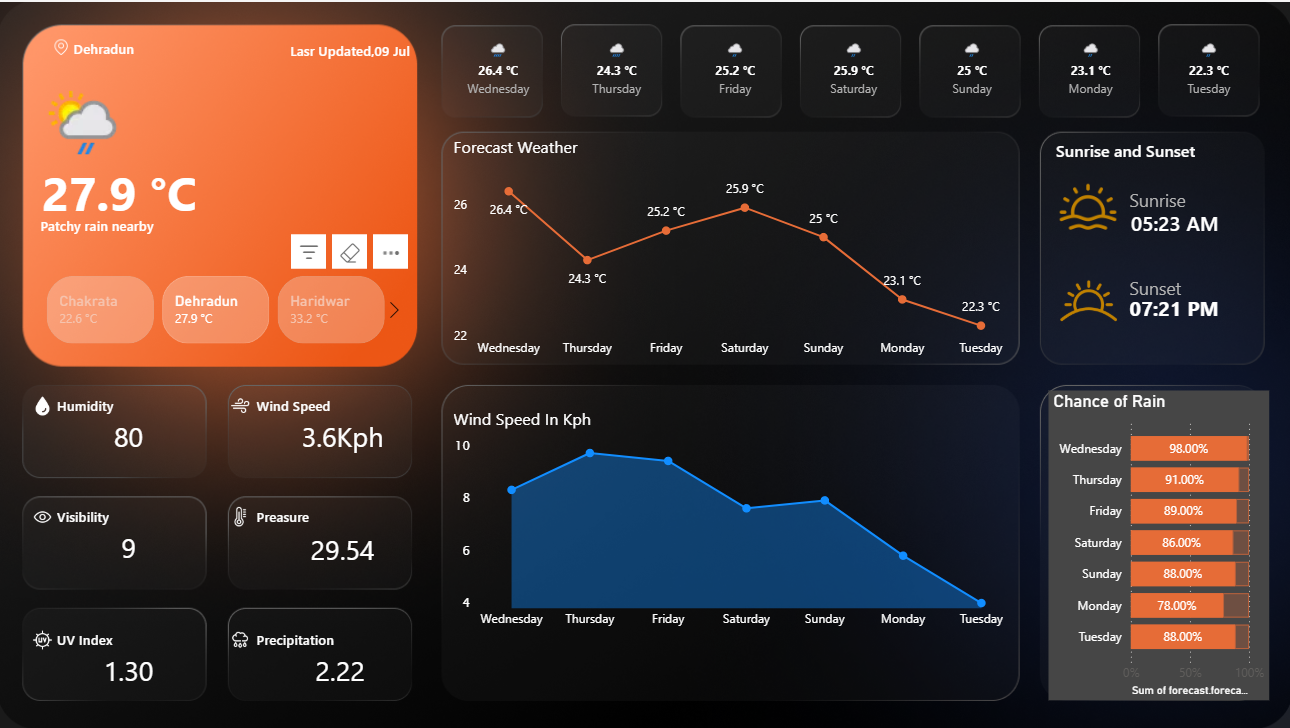

The dashboard page shown, as its layout file describes it:
{"tool":"powerbi","page":{"name":"Page 1","canvas":[1280,720],"ordinal":0},"visuals":[{"type":"advancedSlicerVisual","fields":{"Values":["Locations.location.name"]},"box":[23.9,264.6,384,77.6],"z":0},{"type":"shape","box":[43.8,153.2,210.9,67.6],"z":1000},{"type":"shape","box":[43.5,206,211.7,28.3],"z":2000},{"type":"shape","box":[75.6,31.8,121.4,29.8],"z":3000},{"type":"shape","box":[197,35.8,210.9,23.9],"z":4000},{"type":"image","box":[49.7,29.8,25.9,29.8],"z":5000},{"type":"cardVisual","fields":{"Data":["Min(Current.current.condition.icon)"]},"box":[23.9,59.7,113.4,105.5],"z":6000},{"type":"image","box":[30,384,30,30],"z":7000},{"type":"image","box":[225.6,383.4,30,30],"z":8000},{"type":"image","box":[30,493.4,30,30],"z":9000},{"type":"image","box":[225.6,493.8,30,30],"z":10000},{"type":"image","box":[30,614.8,30,30],"z":11000},{"type":"image","box":[225.6,615.3,30,30],"z":12000},{"type":"shape","box":[60,383.4,137.3,30],"z":13000},{"type":"shape","box":[60,493.8,137.3,30],"z":14000},{"type":"shape","box":[60,615.3,137.3,30],"z":15000},{"type":"shape","box":[255.6,383.4,137.3,30],"z":16000},{"type":"shape","box":[255.6,615.3,137.3,30],"z":17000},{"type":"shape","box":[255.6,493.8,137.3,30],"z":18000},{"type":"card","fields":{"Values":["Sum(Current.current.humidity)"]},"box":[93.1,399.1,72.6,63.1],"z":19000},{"type":"card","fields":{"Values":["MeasureTable.Wind_Speed"]},"box":[288.7,399.1,104.1,63.1],"z":20000},{"type":"card","fields":{"Values":["Sum(Current.current.pressure_in)"]},"box":[288.7,509.6,104.1,63.1],"z":21000},{"type":"card","fields":{"Values":["Sum(Current.current.vis_km)"]},"box":[93.1,508,72.6,63.1],"z":22000},{"type":"card","fields":{"Values":["Sum(Current.current.uv)"]},"box":[93.1,629.5,72.6,63.1],"z":23000},{"type":"card","fields":{"Values":["Sum(Current.current.precip_mm)"]},"box":[302.9,629.5,72.6,63.1],"z":24000},{"type":"advancedSlicerVisual","fields":{"Values":["Forecast_Day.Day_Name"]},"box":[435.4,30,823.5,82],"z":25000},{"type":"lineChart","title":"Forecast Weather","fields":{"Y":["Sum(Forecast_Day.forecast.forecastday.day.avgtemp_c)"],"Category":["Forecast_Day.Day_Name"]},"box":[446.5,132.5,561.6,227.2],"z":26000},{"type":"shape","box":[1046,132.5,200.4,30],"z":27000},{"type":"shape","box":[1119.6,183.5,99.4,67.8],"z":28000},{"type":"shape","box":[1119.1,268.7,99.4,67.8],"z":29000},{"type":"shape","box":[1118,177.2,99.4,34.7],"z":30000},{"type":"shape","box":[1118,269.3,99.4,25.2],"z":31000},{"type":"image","box":[1034.9,168.8,83.6,66.3],"z":32000},{"type":"image","box":[1034.9,250.8,85.2,89.9],"z":33000},{"type":"hundredPercentStackedBarChart","title":"Chance of Rain","fields":{"Y":["Sum(Forecast_Day.forecast.forecastday.day.daily_chance_of_rain)","MeasureTable.Left_Value_Rain"],"Category":["Forecast_Day.Day_Name"]},"box":[1038.1,383.4,217.7,306.1],"z":34000},{"type":"lineChart","title":"Wind Speed In Kph","fields":{"Category":["Forecast_Day.Day_Name"],"Y":["Sum(Forecast_Day.forecast.forecastday.day.maxwind_kph)"]},"box":[446.6,399.7,562,227.5],"z":35000}]}

Visuals, with their boxes in screenshot pixels (x1, y1, x2, y2), scaled from the page's 1280x720 canvas onto the 1290x728 screenshot:
advancedSlicerVisual - Locations.location.name: rect(24, 268, 411, 346)
shape: rect(44, 155, 257, 223)
shape: rect(44, 208, 257, 237)
shape: rect(76, 32, 199, 62)
shape: rect(199, 36, 411, 60)
image: rect(50, 30, 76, 60)
cardVisual - Min(Current.current.condition.icon): rect(24, 60, 138, 167)
image: rect(30, 388, 60, 419)
image: rect(227, 388, 258, 418)
image: rect(30, 499, 60, 529)
image: rect(227, 499, 258, 530)
image: rect(30, 622, 60, 652)
image: rect(227, 622, 258, 652)
shape: rect(60, 388, 199, 418)
shape: rect(60, 499, 199, 530)
shape: rect(60, 622, 199, 652)
shape: rect(258, 388, 396, 418)
shape: rect(258, 622, 396, 652)
shape: rect(258, 499, 396, 530)
card - Sum(Current.current.humidity): rect(94, 404, 167, 467)
card - MeasureTable.Wind_Speed: rect(291, 404, 396, 467)
card - Sum(Current.current.pressure_in): rect(291, 515, 396, 579)
card - Sum(Current.current.vis_km): rect(94, 514, 167, 577)
card - Sum(Current.current.uv): rect(94, 636, 167, 700)
card - Sum(Current.current.precip_mm): rect(305, 636, 378, 700)
advancedSlicerVisual - Forecast_Day.Day_Name: rect(439, 30, 1269, 113)
"Forecast Weather" lineChart: rect(450, 134, 1016, 364)
shape: rect(1054, 134, 1256, 164)
shape: rect(1128, 186, 1229, 254)
shape: rect(1128, 272, 1228, 340)
shape: rect(1127, 179, 1227, 214)
shape: rect(1127, 272, 1227, 298)
image: rect(1043, 171, 1127, 238)
image: rect(1043, 254, 1129, 344)
"Chance of Rain" hundredPercentStackedBarChart: rect(1046, 388, 1266, 697)
"Wind Speed In Kph" lineChart: rect(450, 404, 1016, 634)
